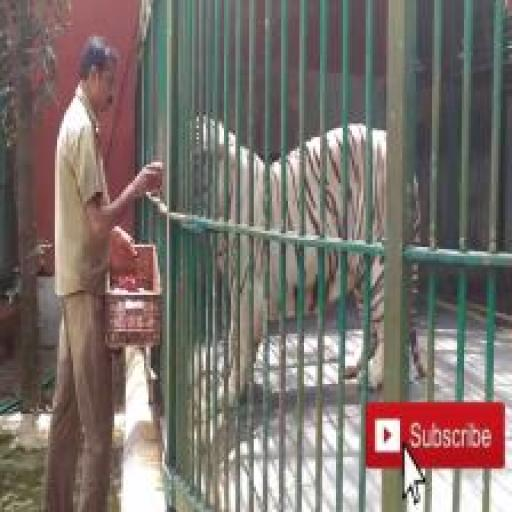Tiger: (180, 108, 431, 396)
